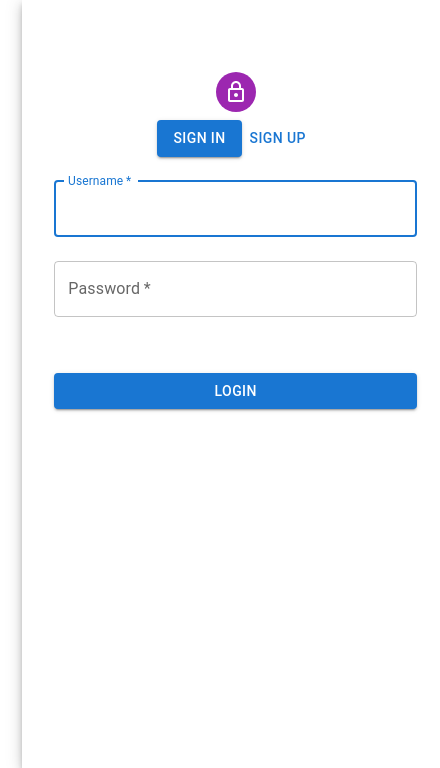
Test: Authentication Page › should show error when password is less than 6 characters on register
This screenshot has width=440, height=768.
Click the button "Sign Up" at (278, 138), box [242, 120, 314, 156]
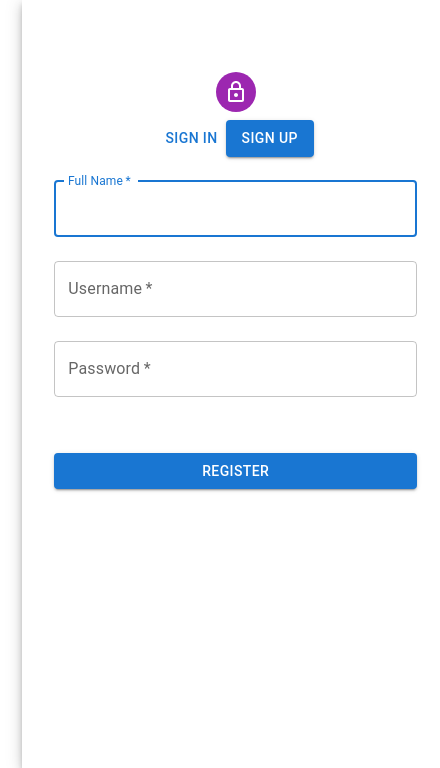
Type "testuser" into the field labelled "Username *" at (236, 288), box [54, 260, 417, 316]
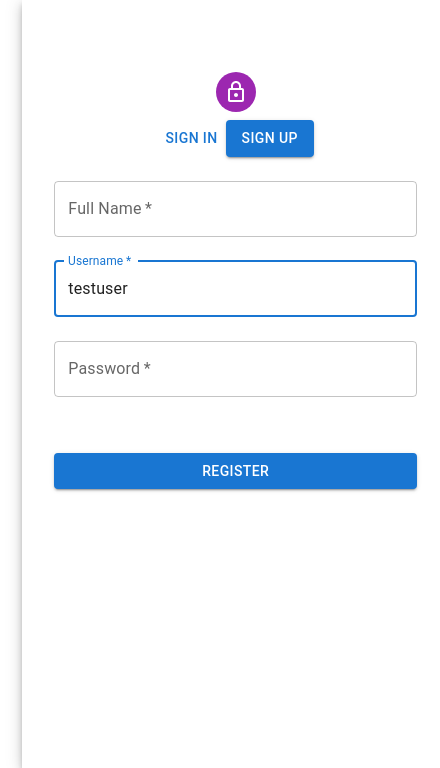
Type "short" into the password field labelled "Password *" at (236, 368), box [54, 340, 417, 396]
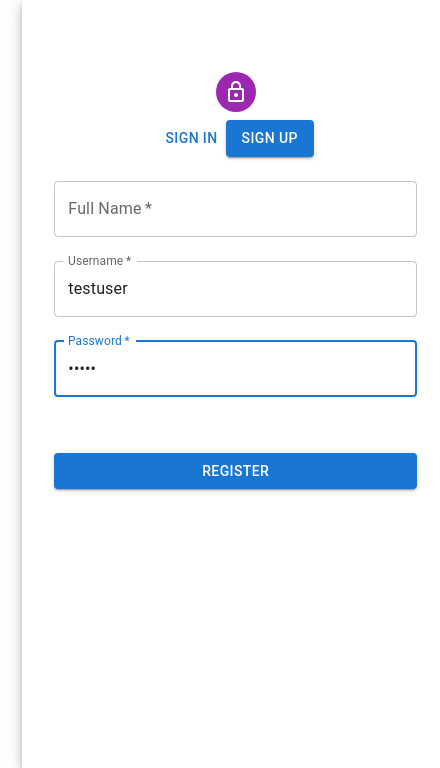
Click the button "Register" at (236, 471), box [54, 452, 417, 489]
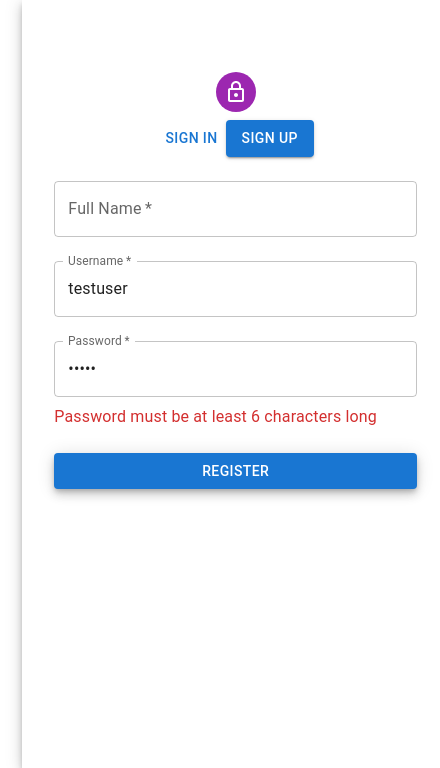
Expected: the text "Password must be at least 6 characters long" is shown, [54, 404, 417, 428]
